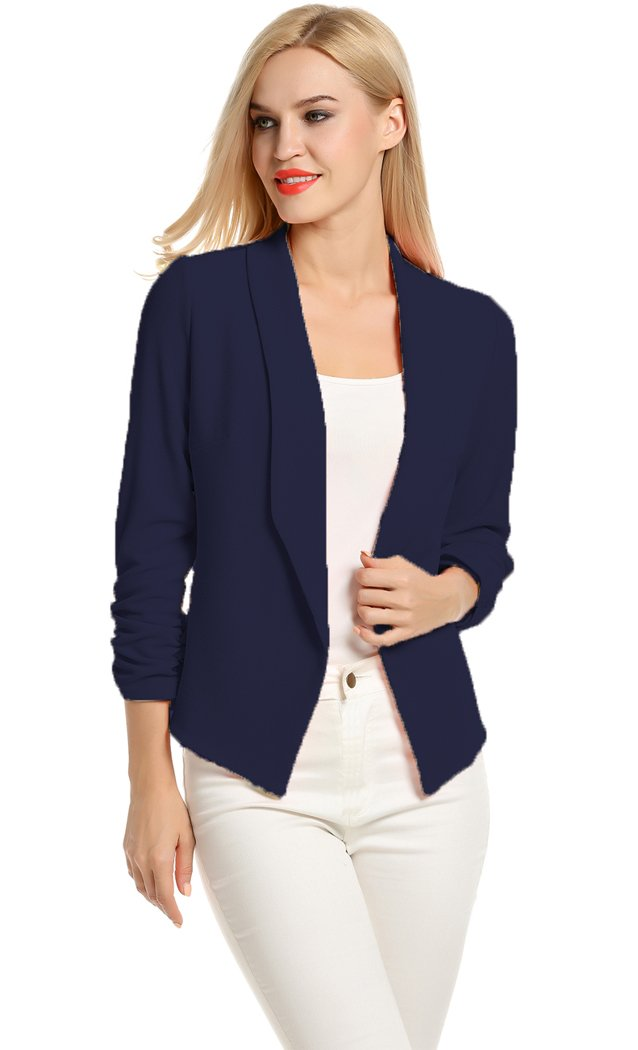F_W_suit jacket: (104, 238, 552, 761)
